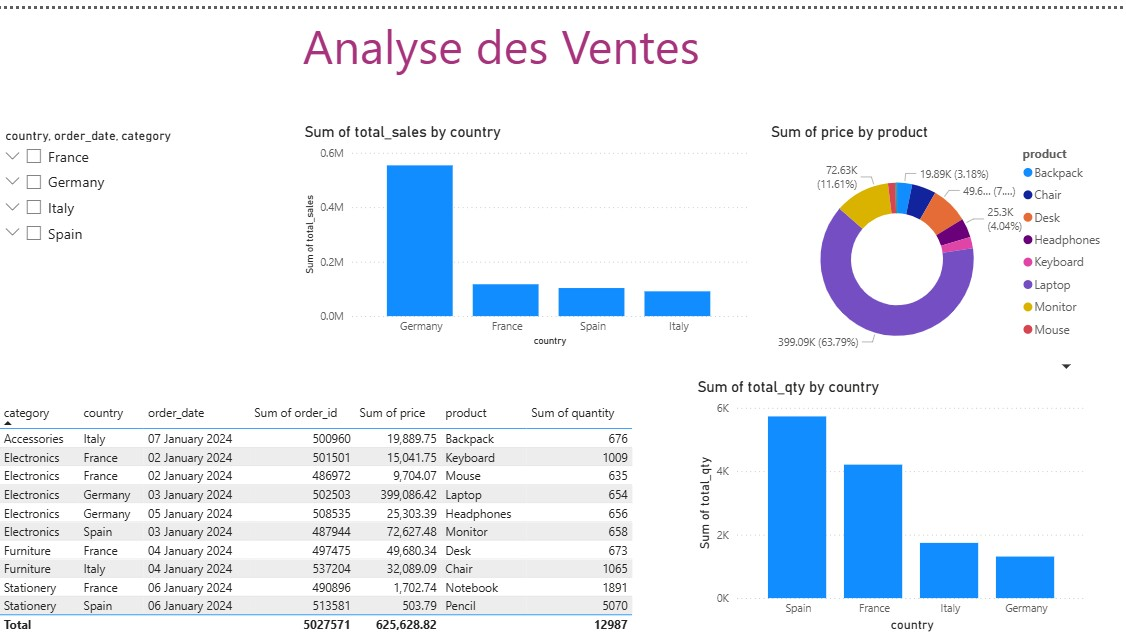

Layout of this report page (visuals, bound fields, positions):
{"tool":"powerbi","page":{"name":"Page 1","canvas":[1280,720],"ordinal":0},"visuals":[{"type":"tableEx","fields":{"Values":["`demo_catalog` `raw` `bronze_sales`.category","`demo_catalog` `raw` `bronze_sales`.country","`demo_catalog` `raw` `bronze_sales`.order_date","Sum(`demo_catalog` `raw` `bronze_sales`.order_id)","Sum(`demo_catalog` `raw` `bronze_sales`.price)","`demo_catalog` `raw` `bronze_sales`.product","Sum(`demo_catalog` `raw` `bronze_sales`.quantity)"]},"box":[0,441.4,737.9,279.3],"z":0},{"type":"clusteredColumnChart","fields":{"Y":["Sum(`demo_catalog` `raw` `gold_sales`.total_sales)"],"Category":["`demo_catalog` `raw` `gold_sales`.country"]},"box":[346.6,129.3,510.3,256.9],"z":1},{"type":"columnChart","fields":{"Category":["`demo_catalog` `raw` `gold_sales`.country"],"Y":["Sum(`demo_catalog` `raw` `gold_sales`.total_qty)"]},"box":[789.7,417.2,450,291.4],"z":2},{"type":"donutChart","fields":{"Y":["Sum(`demo_catalog` `raw` `silver_sales`.price)"],"Series":["`demo_catalog` `raw` `silver_sales`.product"]},"box":[872.4,129.3,391.4,287.9],"z":3},{"type":"textbox","box":[0,0,1146.6,81],"z":4},{"type":"slicer","fields":{"Values":["`demo_catalog` `raw` `bronze_sales`.country","`demo_catalog` `raw` `bronze_sales`.order_date","`demo_catalog` `raw` `bronze_sales`.category"]},"box":[0,129.3,300,256.9],"z":5}]}

Visuals, with their boxes in screenshot pixels (x1, y1, x2, y2), scaled from the page's 1280x720 canvas onto the 1126x643 screenshot:
tableEx - `demo_catalog` `raw` `bronze_sales`.category x `demo_catalog` `raw` `bronze_sales`.country: (x1=0, y1=394, x2=649, y2=642)
clusteredColumnChart - Sum(`demo_catalog` `raw` `gold_sales`.total_sales) x `demo_catalog` `raw` `gold_sales`.country: (x1=305, y1=115, x2=754, y2=345)
columnChart - `demo_catalog` `raw` `gold_sales`.country x Sum(`demo_catalog` `raw` `gold_sales`.total_qty): (x1=695, y1=373, x2=1091, y2=633)
donutChart - Sum(`demo_catalog` `raw` `silver_sales`.price) x `demo_catalog` `raw` `silver_sales`.product: (x1=767, y1=115, x2=1112, y2=373)
textbox: (x1=0, y1=0, x2=1009, y2=72)
slicer - `demo_catalog` `raw` `bronze_sales`.country x `demo_catalog` `raw` `bronze_sales`.order_date: (x1=0, y1=115, x2=264, y2=345)
